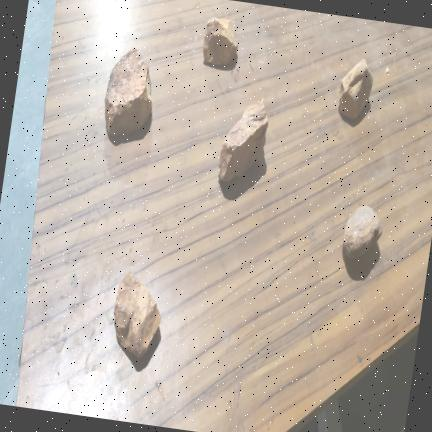Rocks: (104, 49, 151, 136), (218, 100, 267, 181), (113, 273, 159, 358), (338, 59, 372, 119), (342, 206, 381, 258), (202, 18, 237, 65)
